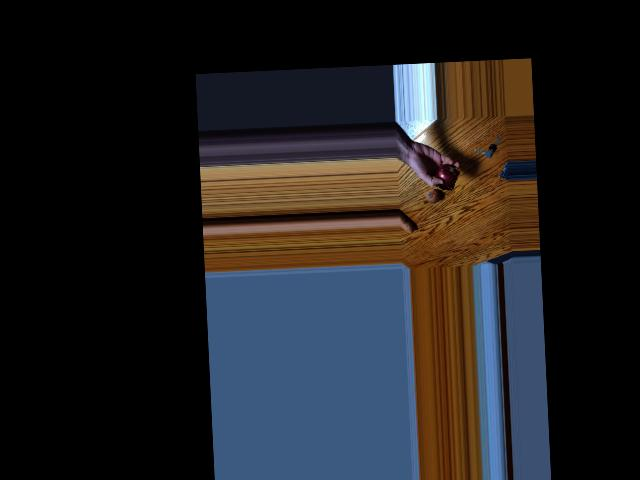onion: (425, 182, 441, 205)
